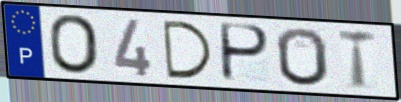4: (112, 17, 154, 78)
D: (159, 18, 216, 81)
O: (274, 25, 332, 88), (46, 12, 103, 76)
P: (219, 21, 273, 85)
T: (336, 28, 379, 91)
